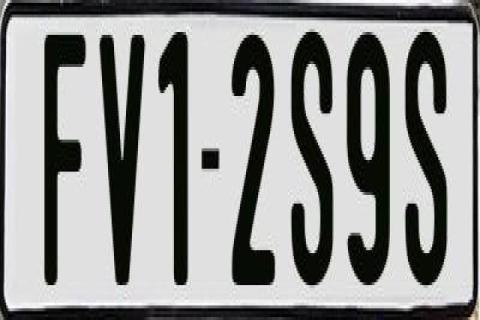0: (344, 26, 394, 291), (232, 32, 280, 300), (158, 26, 192, 291)
F: (40, 32, 82, 296)
S: (406, 24, 454, 288), (292, 32, 336, 300)
V: (98, 29, 146, 279)
